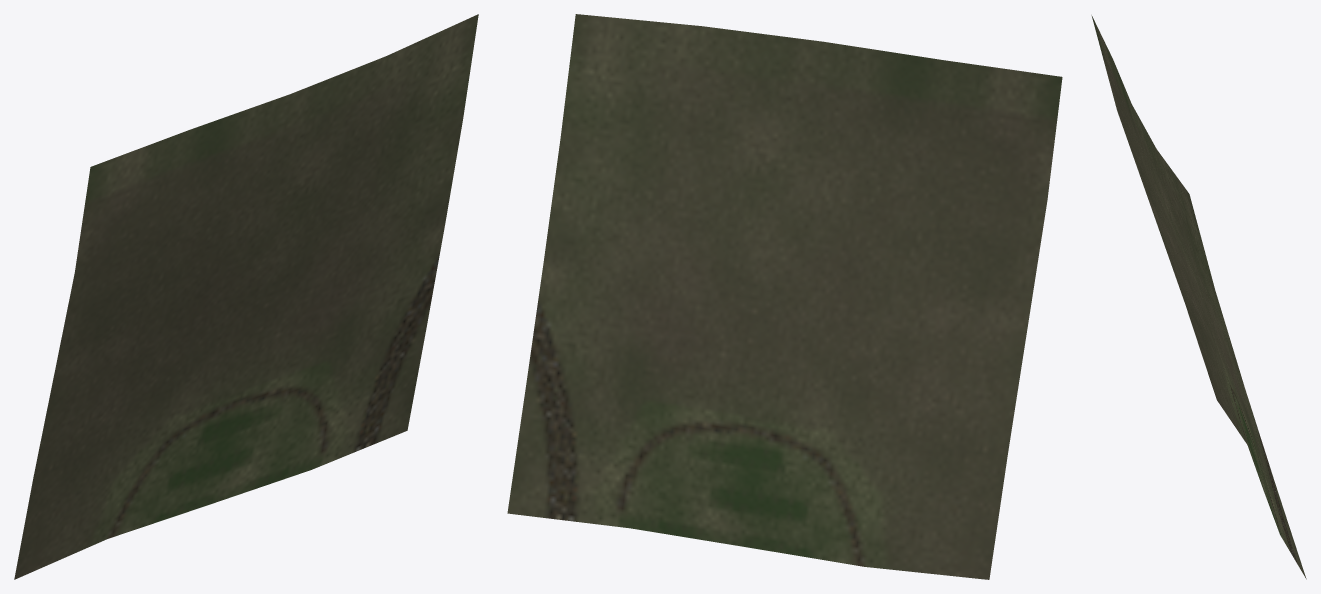
Rendered from terrain_mid_03_04.obj.
3 renders of one model, left to right at view 1: azimuth 30°, elevation 25°; view 2: azimuth 150°, elevation 25°; view 3: azimuth 270°, elevation 25°, orthographic. The views are drawn at different scales.
Visible parts, largest first — view 1: terrain_mid_03_04; view 2: terrain_mid_03_04; view 3: terrain_mid_03_04.
Boxes of the visible parts, x1=… form: terrain_mid_03_04: x1=14, y1=14, x2=478, y2=579; terrain_mid_03_04: x1=507, y1=14, x2=1062, y2=579; terrain_mid_03_04: x1=1091, y1=15, x2=1306, y2=579.
Bounding box in the file's own units: 96 × 96 × 48.59.
1 material, 1 textured.
